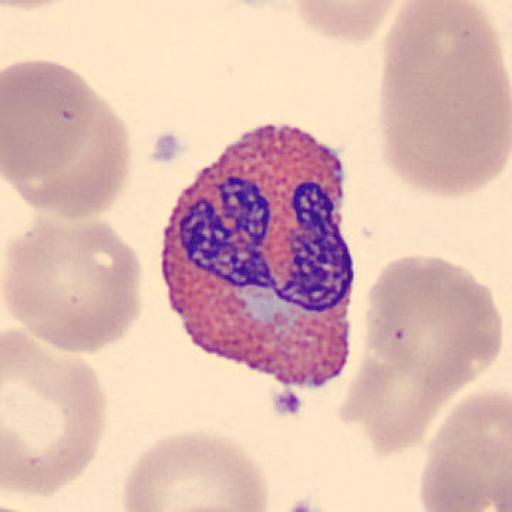RBC: (375, 0, 512, 196), (2, 59, 133, 220), (360, 252, 502, 394), (2, 214, 142, 354), (0, 326, 110, 498), (12, 102, 134, 221), (2, 57, 112, 187), (120, 429, 272, 512), (340, 346, 448, 457), (421, 388, 512, 512), (1, 61, 84, 183), (418, 434, 512, 512), (290, 0, 404, 45), (0, 0, 74, 10)
WBC: (160, 125, 356, 380)
